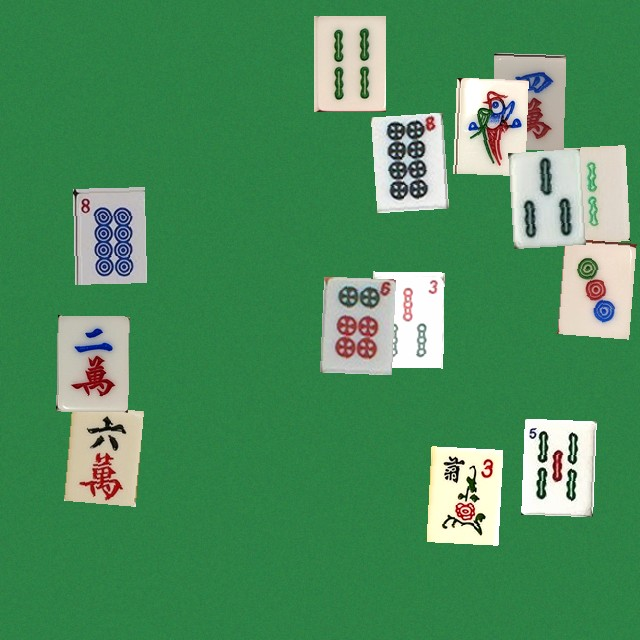tile: (521, 418, 593, 514), (370, 112, 442, 208), (63, 405, 135, 501), (553, 145, 625, 241), (371, 271, 443, 367), (319, 276, 391, 372), (313, 15, 385, 111), (426, 446, 498, 542), (491, 52, 563, 148), (56, 315, 128, 411), (72, 187, 144, 283), (557, 238, 629, 334), (453, 77, 525, 173), (508, 148, 580, 244)
